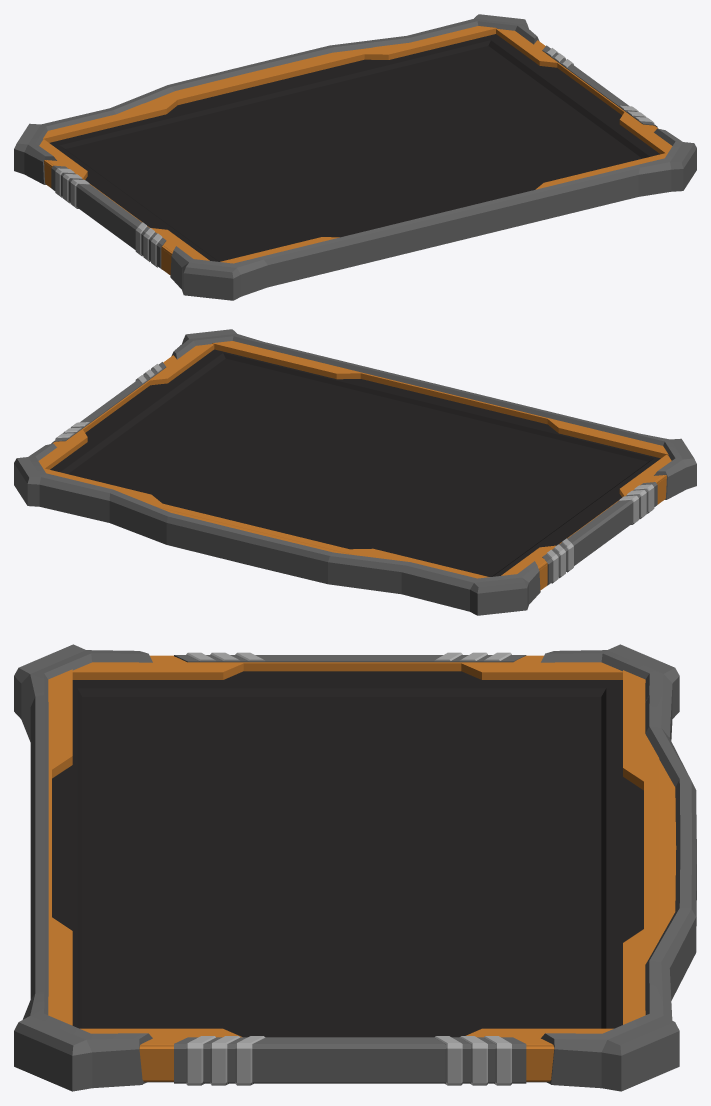
File: Tablet_v1.fbx
The picture shows the model from 3 angles, top to bottom: view 1: azimuth 30°, elevation 25°; view 2: azimuth 150°, elevation 25°; view 3: azimuth 270°, elevation 25°; orthographic projection. The views are drawn at different scales.
Visible parts, largest first — view 1: pCube35; view 2: pCube35; view 3: pCube35.
Boxes of the visible parts, <box> form: pCube35: <box>14,14,696,300</box>; pCube35: <box>14,329,696,615</box>; pCube35: <box>14,644,696,1091</box>.
Size of the model in its own units: 64.09 by 3.58 by 45.68.
